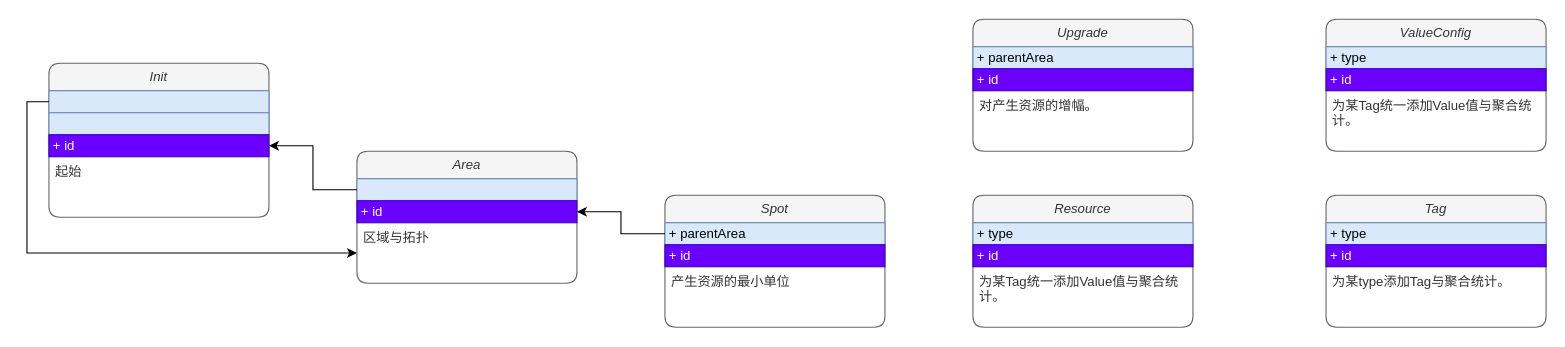
This 1565x347 diagram has some shape labels left out. The centre of each missing label's shape, as x and y in pixels:
"+ defaultArea" belongs at point (158, 101).
"+ parentInit" belongs at point (466, 189).
"+ startStory" belongs at point (158, 123).
